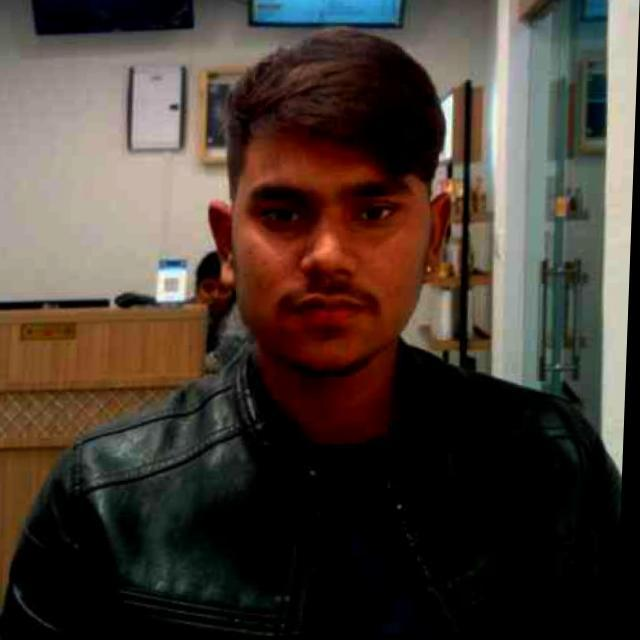Puffy Eyes - v3 Dark Circle: (262, 209, 319, 243), (344, 220, 406, 241)
